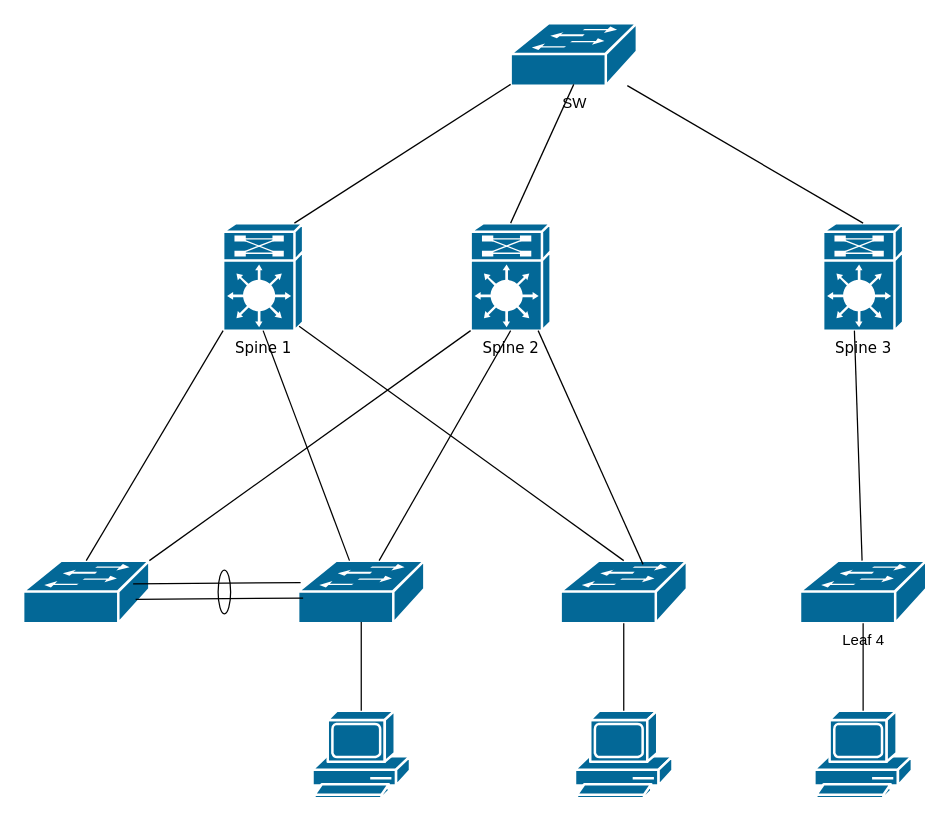
Image size: 949x820. Some labels were removed from this diagram. Here are the shapes that lost their labels. From the top down, the centre of each, then its label:
(x=85, y=591): Leaf 1
(x=360, y=591): Leaf 2
(x=623, y=591): Leaf 3
